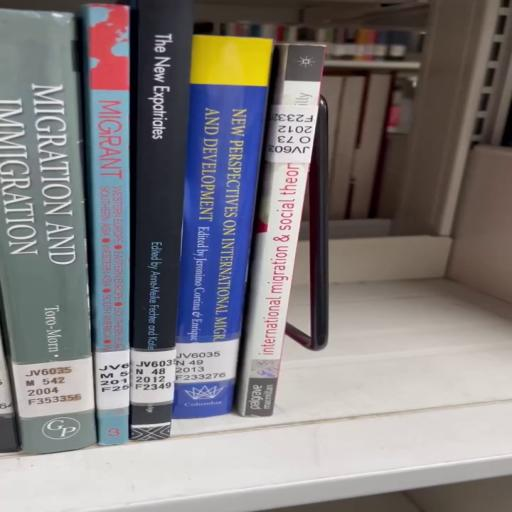reverse: (237, 44, 329, 417)
